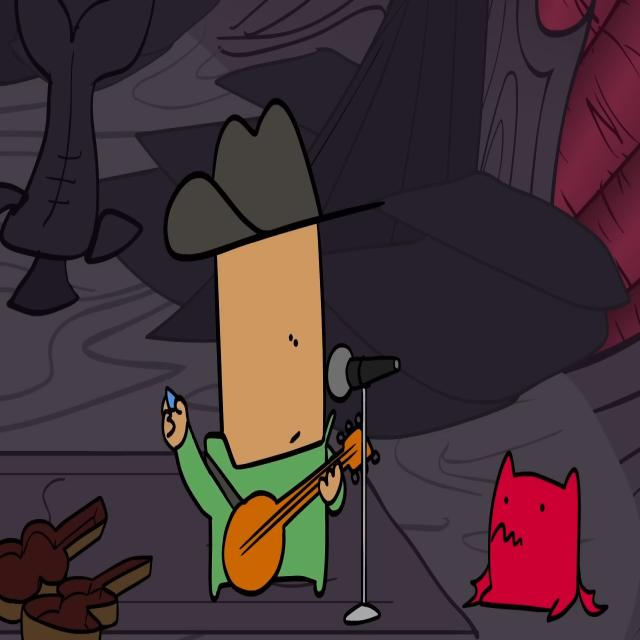Banjovi: (161, 95, 388, 606)
